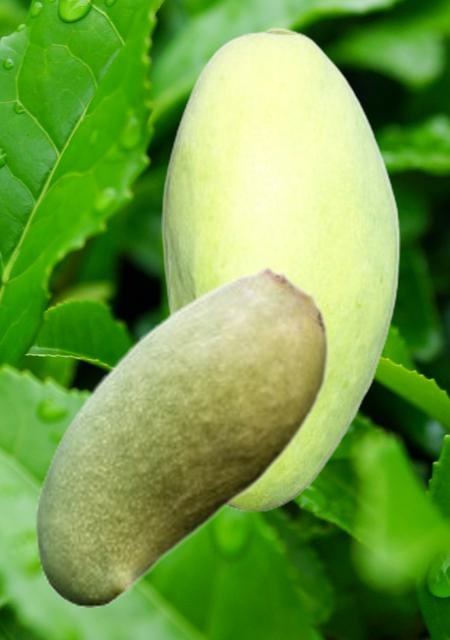green_mango: (161, 27, 399, 511), (34, 265, 329, 606)
